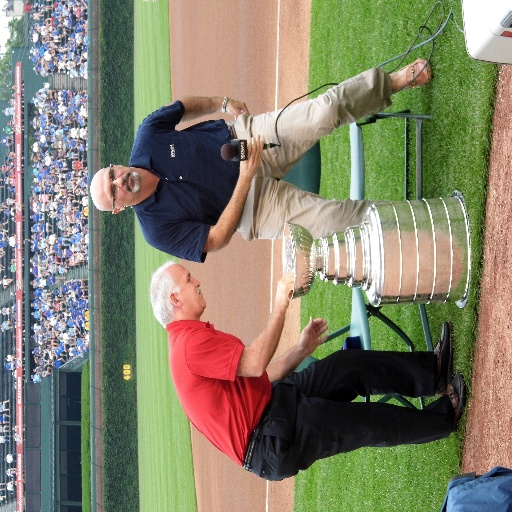hand: (291, 320, 337, 369), (239, 133, 264, 180), (274, 270, 295, 313), (224, 98, 251, 121)
